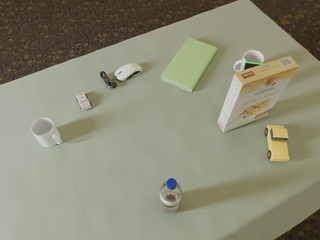book: (161, 37, 217, 92)
bottle: (160, 178, 182, 213)
box: (217, 56, 299, 132)
cup: (31, 118, 62, 147), (234, 50, 264, 72)
mouse: (115, 63, 142, 81)
toy_car: (265, 125, 289, 162), (76, 92, 91, 111)
